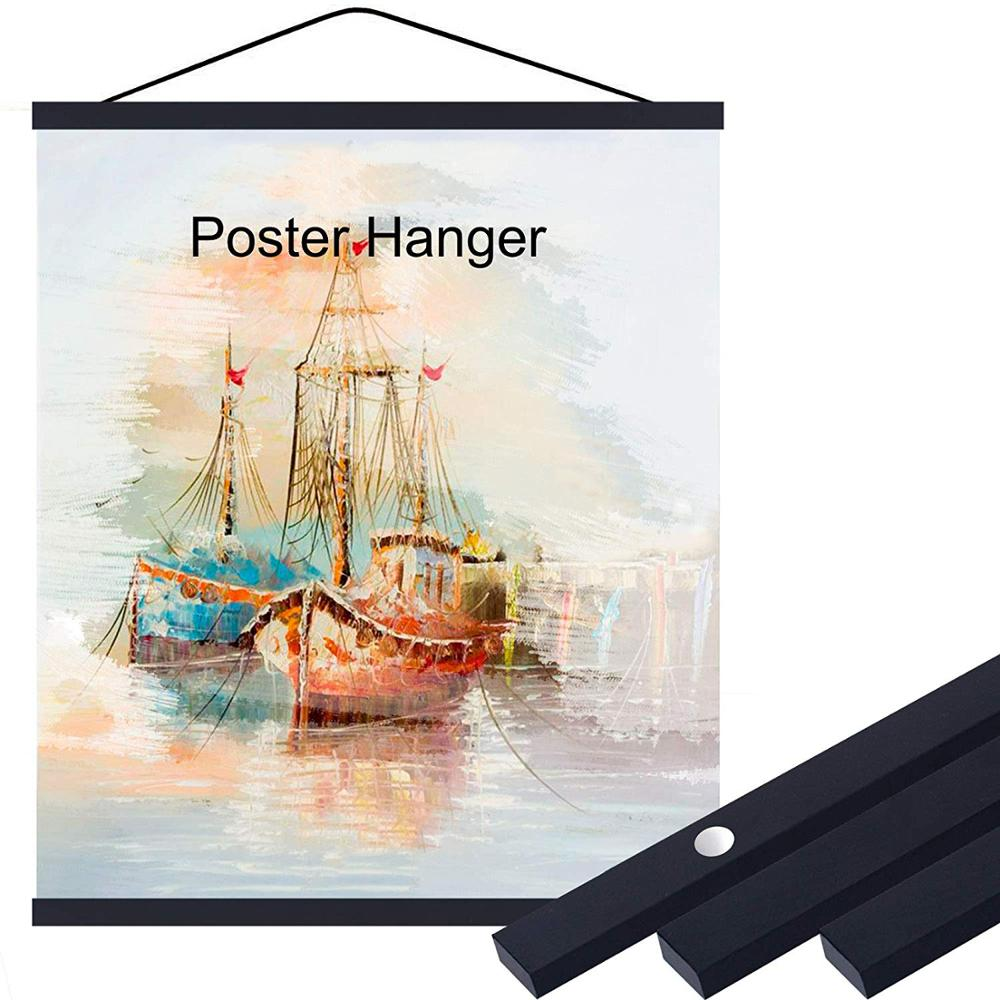lukisan: (27, 114, 749, 912)
